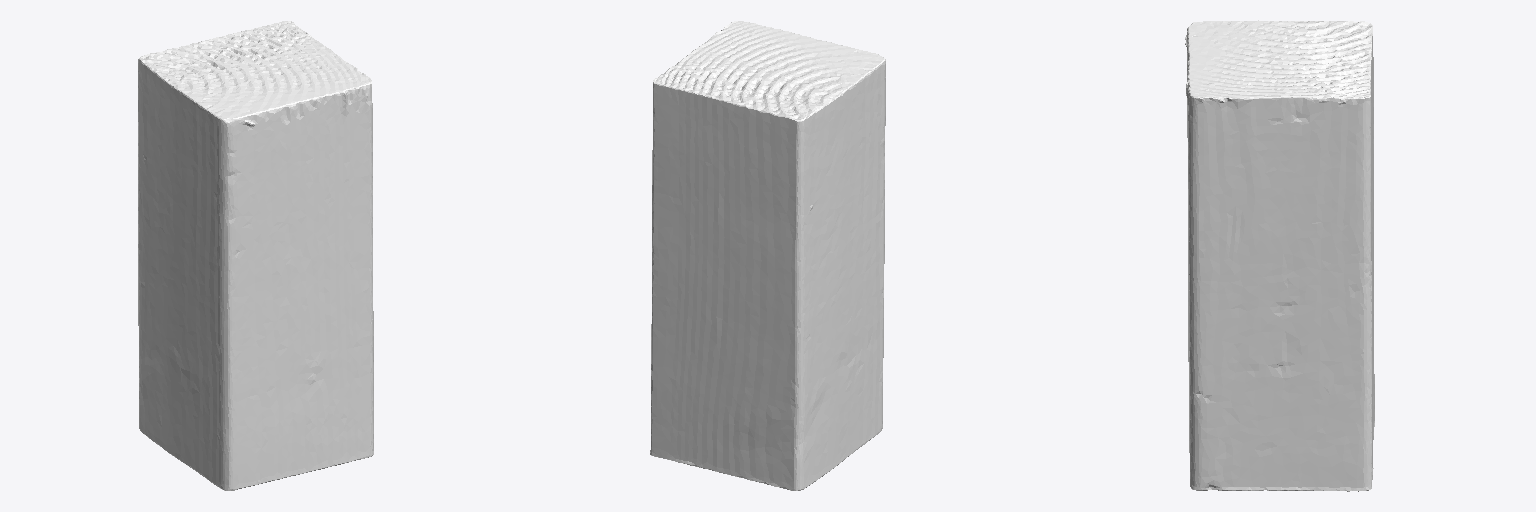
URDF robot description (windex_bottle):
<robot name="windex_bottle">
	<link name="base_link">
		<visual>
			<origin xyz="-0.013942564305577316 -0.00843004384724436 -0.10236853791650995" rpy="0.0 0.0 0.0" />
			<geometry>
				<mesh filename="022_windex_bottle/google_16k/textured.obj" scale="1 1 1" />
			</geometry>
			<material name="texture">
				<color rgba="1.0 1.0 1.0 1.0" />
			</material>
		</visual>
		<collision>
			<origin xyz="-0.013942564305577316 -0.00843004384724436 -0.10236853791650995" rpy="0.0 0.0 0.0" />
			<geometry>
				<mesh filename="022_windex_bottle/google_16k/textured_vhacd.obj" scale="1 1 1" />
			</geometry>
		</collision>
		<inertial>
			<mass value="1.022" />
			<inertia ixx="1e-3" ixy="0.0" ixz="0.0" iyy="1e-3" iyz="0.0" izz="1e-3" />
		</inertial>
	</link>
</robot>

--- Facts derived from the render (not from the file) ---
The picture shows the robot from 3 angles, left to right: view 1: azimuth 30°, elevation 25°; view 2: azimuth 150°, elevation 25°; view 3: azimuth 270°, elevation 25°; orthographic projection.
Model windex_bottle with 1 links and 0 joints (none), rooted at base_link, posed every joint at zero.
Links seen in each view (by area): view 1: base_link; view 2: base_link; view 3: base_link.
Boxes of the visible links, bbox=[...] form: base_link: bbox=[138, 21, 373, 490]; base_link: bbox=[650, 21, 885, 490]; base_link: bbox=[1185, 20, 1374, 491].
Size in the robot's own frame: 0.0906 by 0.0899 by 0.206 metres.
1 mesh visuals loaded from 1 distinct referenced files (1 OBJ).